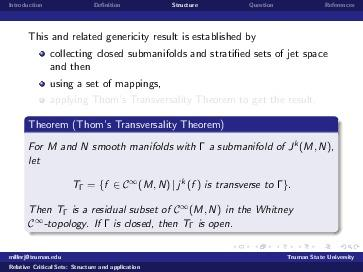paragraph: (20, 136, 344, 233), (25, 25, 351, 100)
title: (25, 113, 233, 136)
